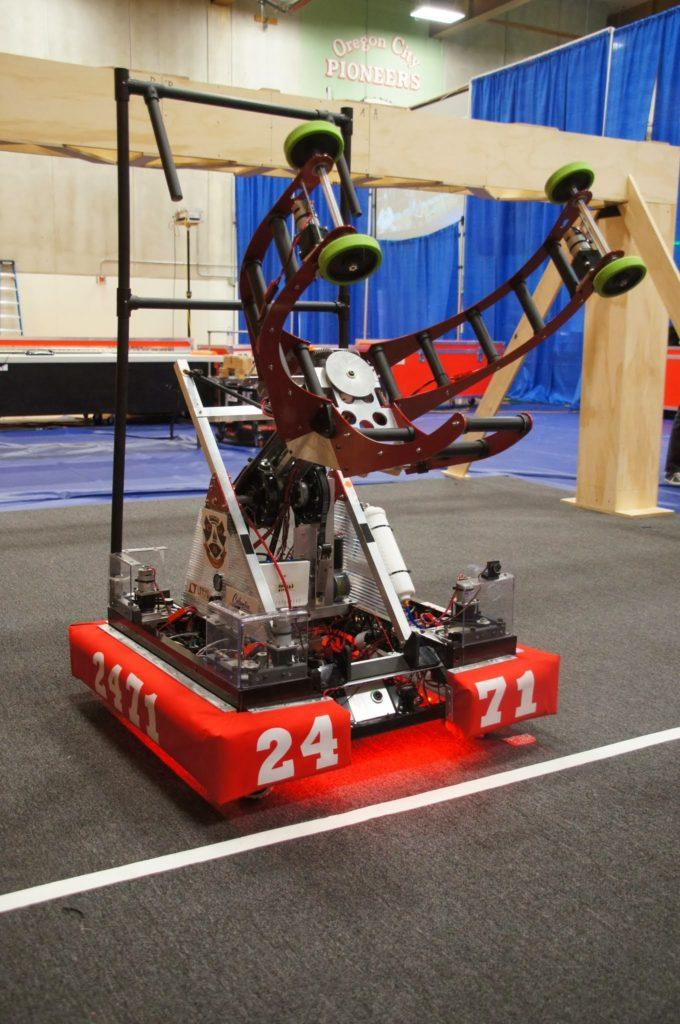robot: (64, 61, 558, 810)
